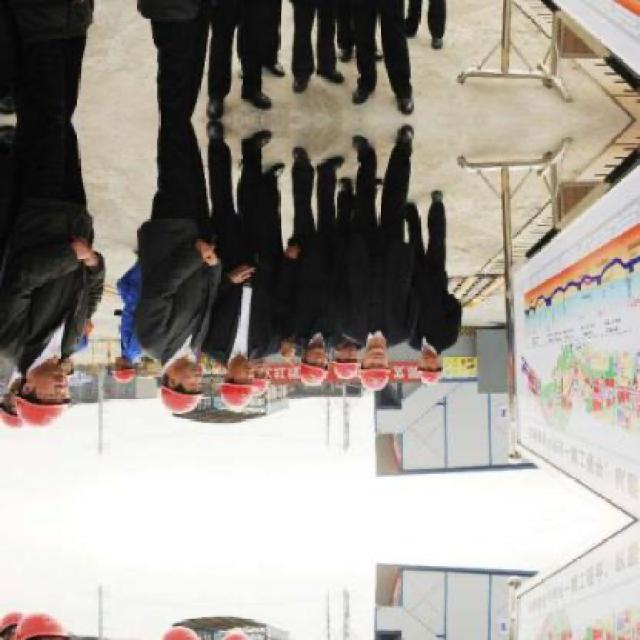con casco: (10, 392, 80, 436), (153, 382, 201, 430), (410, 352, 450, 397), (220, 379, 259, 424), (366, 353, 384, 393)
